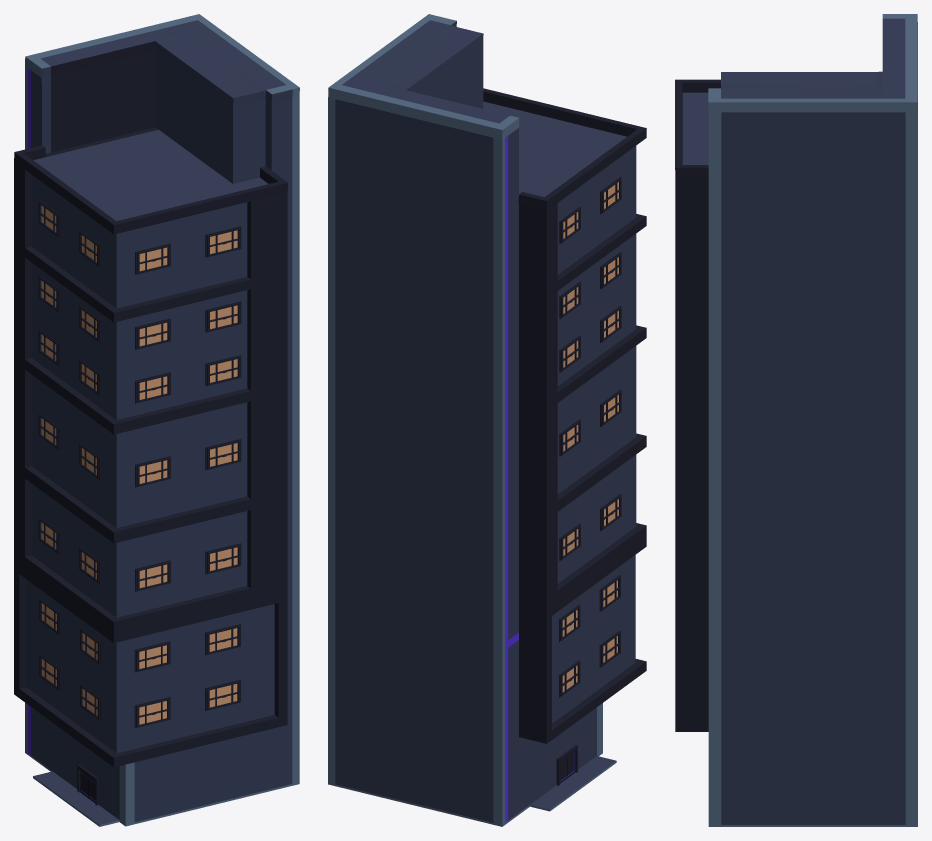
Rendered from Building_Skyscraper02.fbx.
3 views of the same model, side by side, from view 1: azimuth 30°, elevation 25°; view 2: azimuth 150°, elevation 25°; view 3: azimuth 270°, elevation 25° (orthographic). The views are drawn at different scales.
Parts seen in each view (by area): view 1: Cube.446; view 2: Cube.446; view 3: Cube.446.
Boxes of the visible parts, x1,y1,x2,y2 form: Cube.446: (14, 14, 299, 826); Cube.446: (328, 14, 646, 826); Cube.446: (675, 14, 917, 826).
Size of the model in its own units: 1280 by 4220 by 1282.
